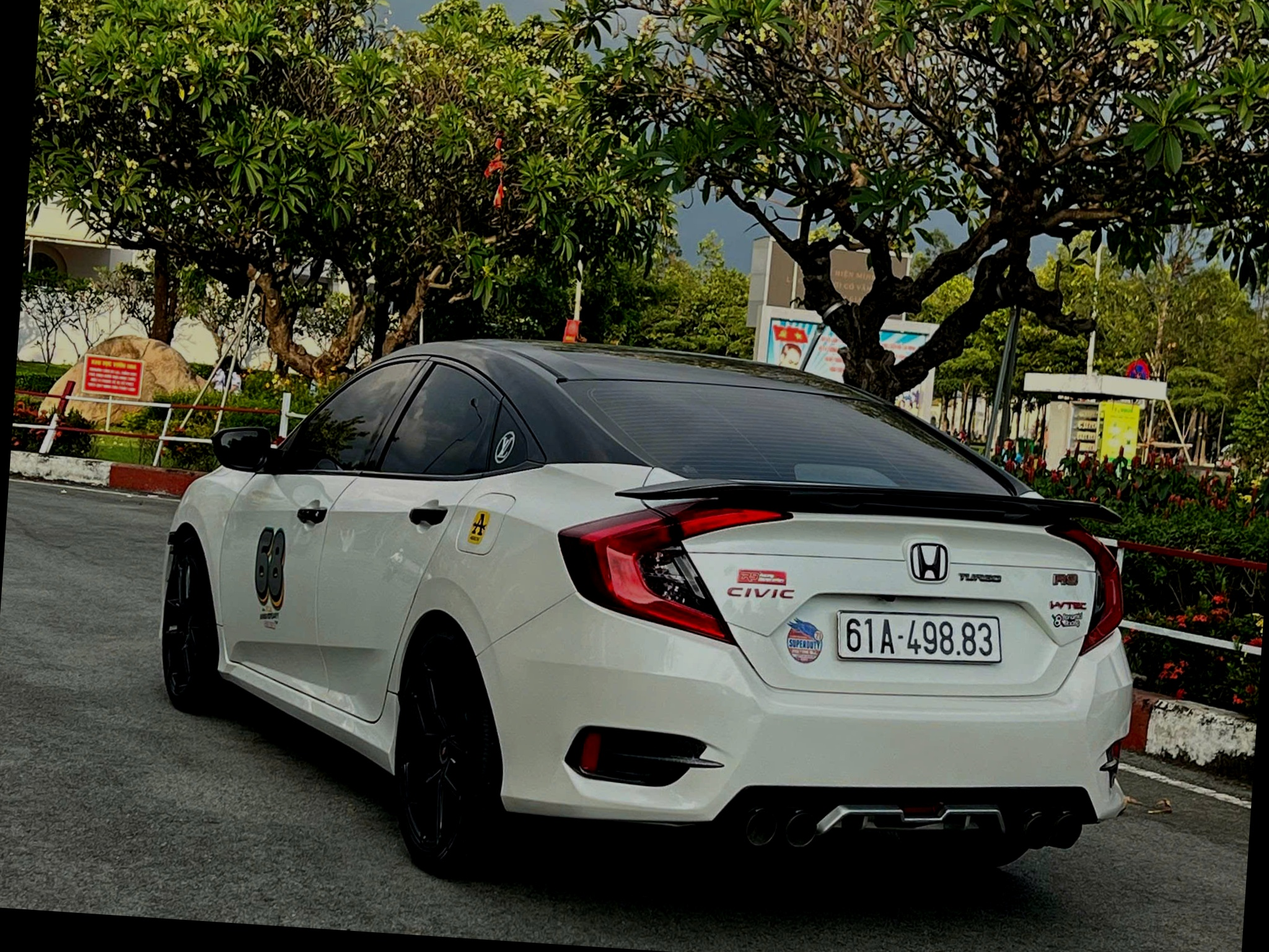Bien-so: (842, 653, 1015, 726)
